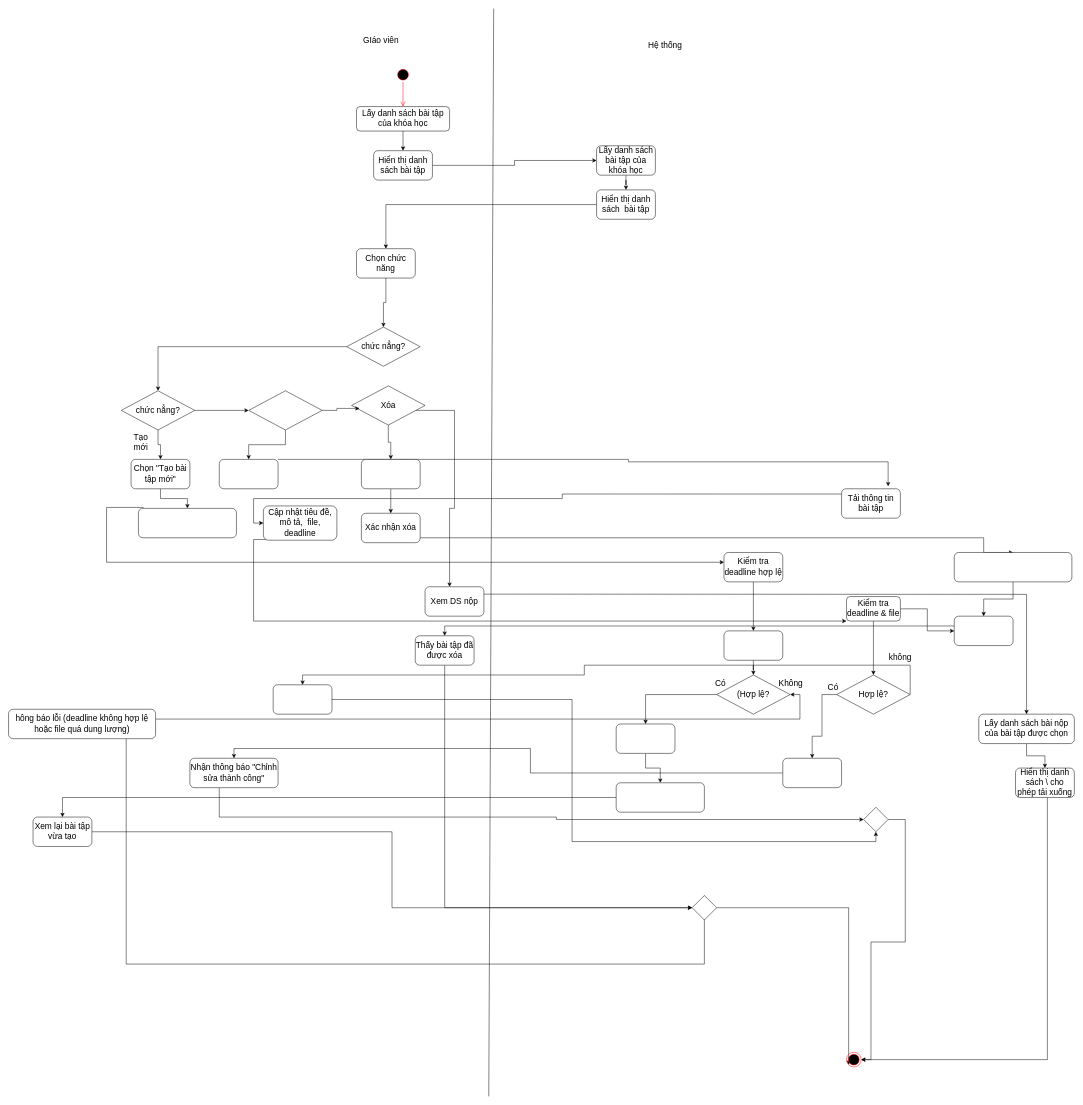
Image size: 1083x1105. Some labels were removed from this diagram. The centre of each missing label's shape, as x and y in pixels:
"Chỉnh sửa" belongs at (x=285, y=410).
"Chọn bài tập cần chỉnh sửa" belongs at (x=248, y=474).
"Chọn bài tập cần xóa" belongs at (x=390, y=474).
"Cập nhật danh sách bài tập" belongs at (x=983, y=631).
"Cập nhật danh sách bài tập cho GV & SV" belongs at (x=660, y=797).
"Kiểm tra file đính kèm" belongs at (x=753, y=645).
"Lưu bài tập mới vào CSDL" belongs at (x=645, y=738).
"Lưu thay đổi vào CSDL" belongs at (x=812, y=773).
"Nhập tiêu đề, mô tả, file đính kèm, deadline" belongs at (x=187, y=523).
"Thông báo lỗi chỉnh sửa" belongs at (x=302, y=699).
"Xóa bài tập trong CSDL (nếu cho phép)" belongs at (x=1013, y=567).
